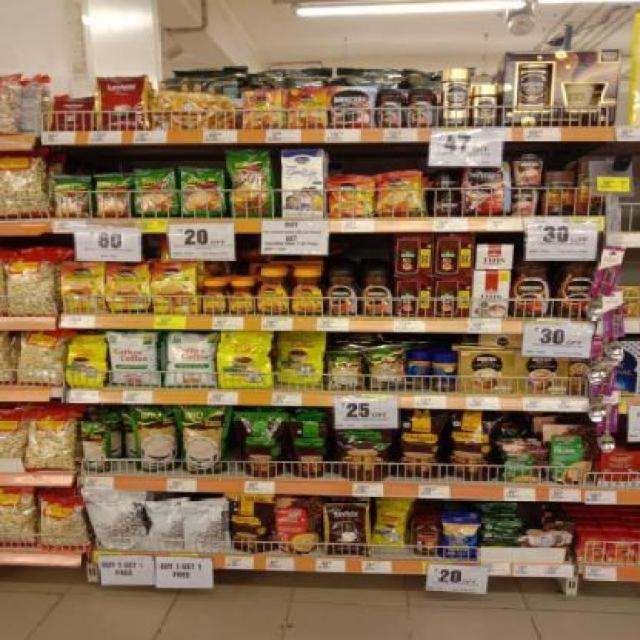Coffee: (557, 258, 598, 318), (510, 258, 550, 318), (152, 262, 197, 312), (464, 167, 510, 215), (61, 262, 105, 312), (378, 174, 424, 217), (106, 265, 149, 310), (330, 86, 376, 128), (328, 178, 374, 216), (442, 68, 470, 124), (256, 268, 290, 314), (292, 270, 324, 316), (360, 270, 392, 316), (327, 270, 356, 316), (406, 89, 434, 126), (378, 88, 404, 127), (472, 86, 497, 126), (229, 278, 254, 314), (202, 280, 226, 314), (435, 192, 460, 216), (432, 169, 461, 188)
